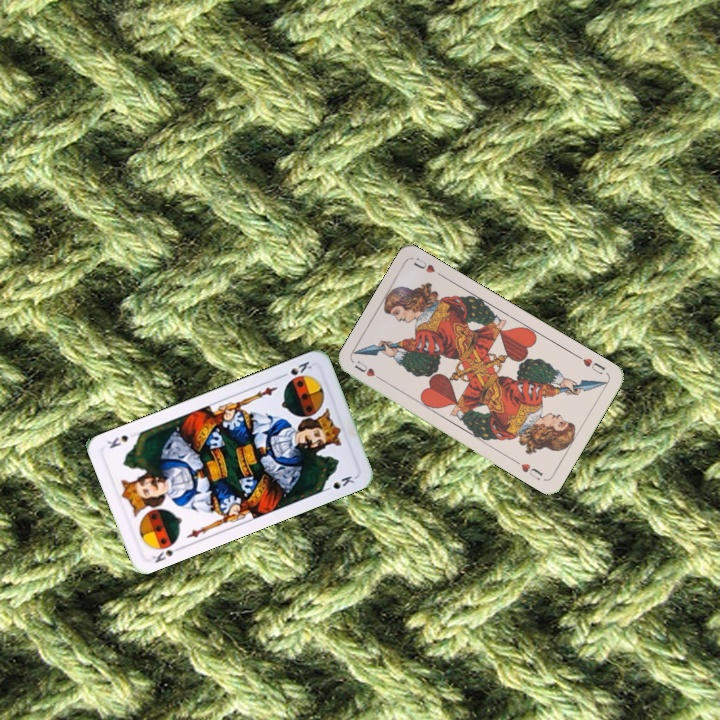HU: (350, 356, 386, 384), (579, 354, 608, 377)
SK: (276, 357, 314, 384), (148, 542, 185, 566)
